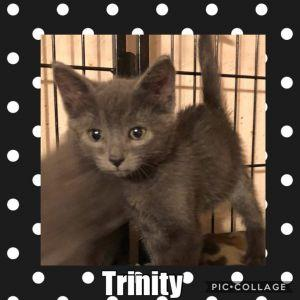rblue: (53, 52, 193, 187)
